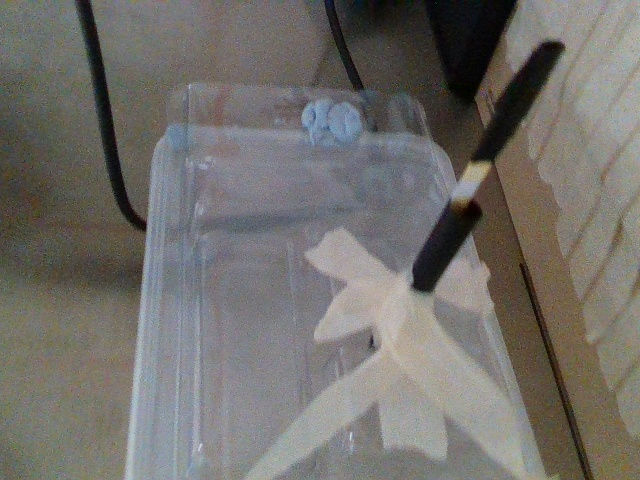test_strip: (448, 37, 566, 207)
